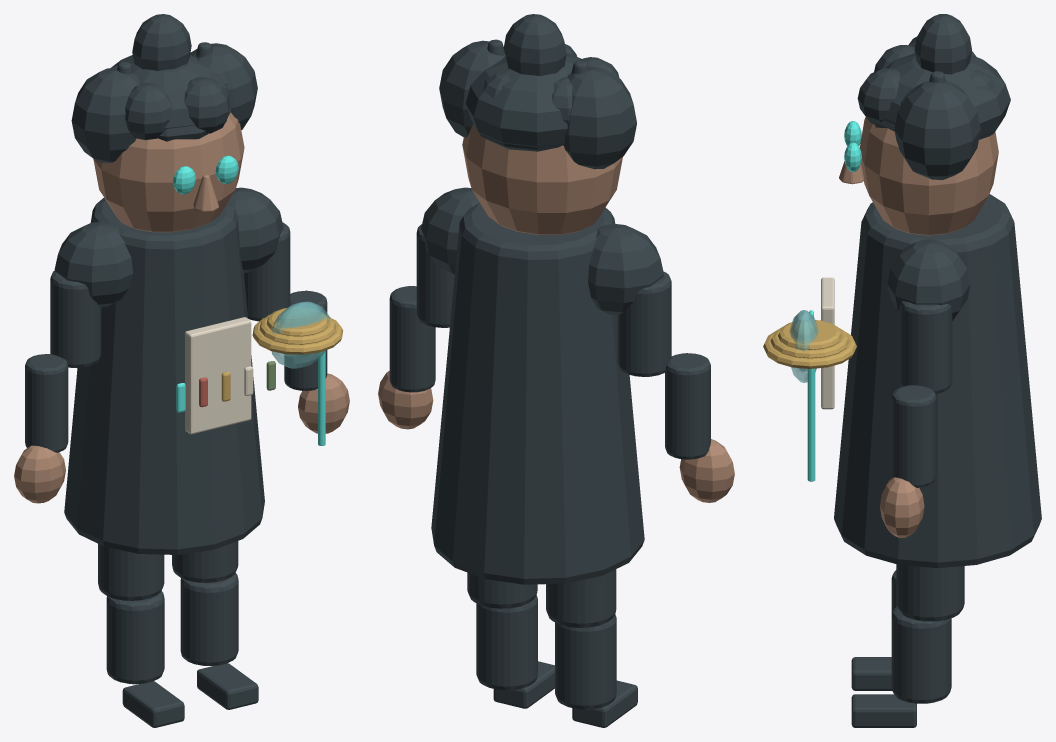
File: Keeper_0.fbx
The picture shows the model from 3 angles, left to right: view 1: azimuth 30°, elevation 25°; view 2: azimuth 150°, elevation 25°; view 3: azimuth 270°, elevation 25°; orthographic projection. The views are drawn at different scales.
Parts seen in each view (by area): view 1: FieldCoat, HeadMesh, CivicApron, RightShin, LeftShin, RightShoulderPad, Hair_2_Puff_R, RightArm, RightForearm, RightThigh, LeftShoulderPad, LeftArm (+19 smaller); view 2: FieldCoat, HeadMesh, Hair_1_Crown, Hair_2_Puff_R, LeftShin, RightShin, RightShoulderPad, RightForearm, RightArm, LeftForearm, RightThigh, Hair_1_Knot (+9 smaller); view 3: FieldCoat, HeadMesh, Hair_2_Puff_L, LeftShin, LeftShoulderPad, LeftArm, LeftForearm, Hair_1_Crown, LeftThigh, Hair_1_Knot, LeftHandMesh, LeftFootMesh (+10 smaller).
Part boxes in pixels (<box>): FieldCoat: <box>64,197,264,554</box>; HeadMesh: <box>93,112,244,232</box>; CivicApron: <box>185,317,251,434</box>; RightShin: <box>106,591,164,684</box>; LeftShin: <box>180,573,238,665</box>; RightShoulderPad: <box>54,221,133,307</box>; Hair_2_Puff_R: <box>71,67,139,162</box>; RightArm: <box>50,270,101,367</box>; RightForearm: <box>25,354,68,452</box>; RightThigh: <box>98,544,164,600</box>; LeftShoulderPad: <box>227,187,283,272</box>; LeftArm: <box>244,222,290,321</box>; FieldCoat: <box>431,203,644,584</box>; HeadMesh: <box>462,124,622,234</box>; Hair_1_Crown: <box>465,52,581,147</box>; Hair_2_Puff_R: <box>563,66,636,169</box>; LeftShin: <box>476,595,537,690</box>; RightShin: <box>555,614,616,709</box>; RightShoulderPad: <box>588,224,663,315</box>; RightForearm: <box>665,353,710,459</box>; RightArm: <box>617,271,671,376</box>; LeftForearm: <box>389,286,435,392</box>; RightThigh: <box>546,569,616,627</box>; Hair_1_Knot: <box>503,14,566,76</box>; FieldCoat: <box>834,194,1041,568</box>; HeadMesh: <box>859,117,998,235</box>; Hair_2_Puff_L: <box>894,80,980,180</box>; LeftShin: <box>891,606,951,703</box>; LeftShoulderPad: <box>887,239,970,320</box>; LeftArm: <box>899,301,952,394</box>; LeftForearm: <box>891,385,936,487</box>; Hair_1_Crown: <box>884,53,1010,136</box>; LeftThigh: <box>896,564,964,621</box>; Hair_1_Knot: <box>914,14,971,74</box>; LeftHandMesh: <box>880,477,924,537</box>; LeftFootMesh: <box>851,694,916,727</box>.
Size of the model in its own units: 1.31 by 2.55 by 0.9374.
